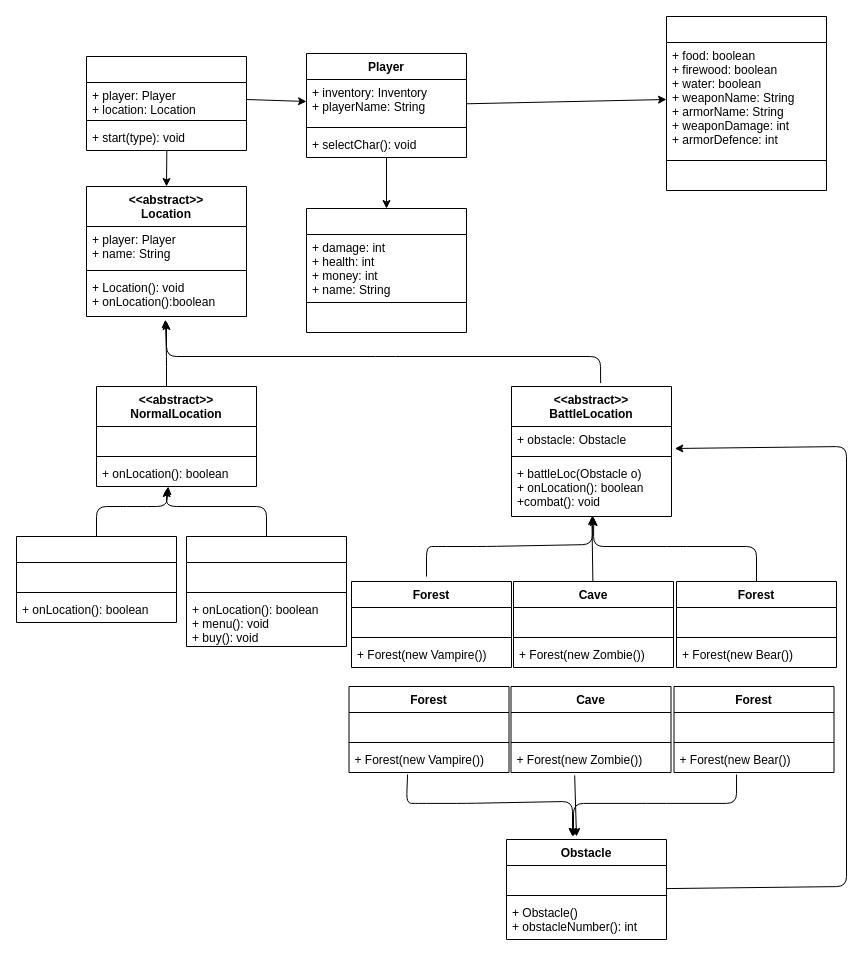
The diagram is 863 pixels wide and 956 high, and some of its shapes have lost their labels. The shapes that lost their labels are listed below. From the top down, each one's box as (x1, y1, x2, y2) in pixels, then its label:
(86, 56, 246, 150): Game
(666, 16, 826, 190): Inventory
(306, 208, 466, 332): Character
(16, 536, 176, 622): SafeHouse
(186, 536, 346, 646): Toolstore
